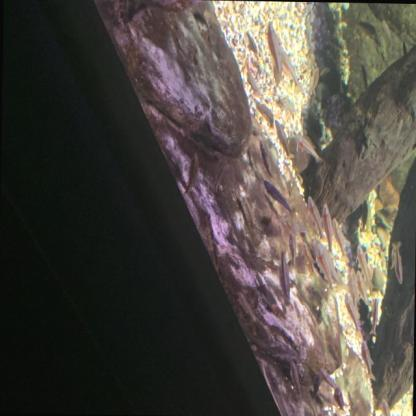fish: (310, 241, 344, 291), (264, 20, 286, 85), (277, 39, 303, 93), (260, 178, 294, 217), (274, 249, 292, 303), (304, 194, 324, 238), (294, 133, 322, 162), (319, 202, 334, 256), (331, 217, 349, 261), (273, 119, 293, 157), (388, 240, 404, 284), (343, 292, 362, 329), (359, 342, 377, 380), (354, 244, 371, 284), (184, 152, 200, 194), (252, 98, 274, 126), (256, 139, 272, 177), (287, 359, 303, 395), (354, 269, 370, 305), (367, 298, 380, 335), (286, 230, 298, 266), (319, 367, 337, 390), (332, 384, 346, 411), (346, 268, 357, 301), (244, 30, 258, 54), (309, 67, 320, 92), (380, 398, 392, 416), (382, 19, 392, 38)
